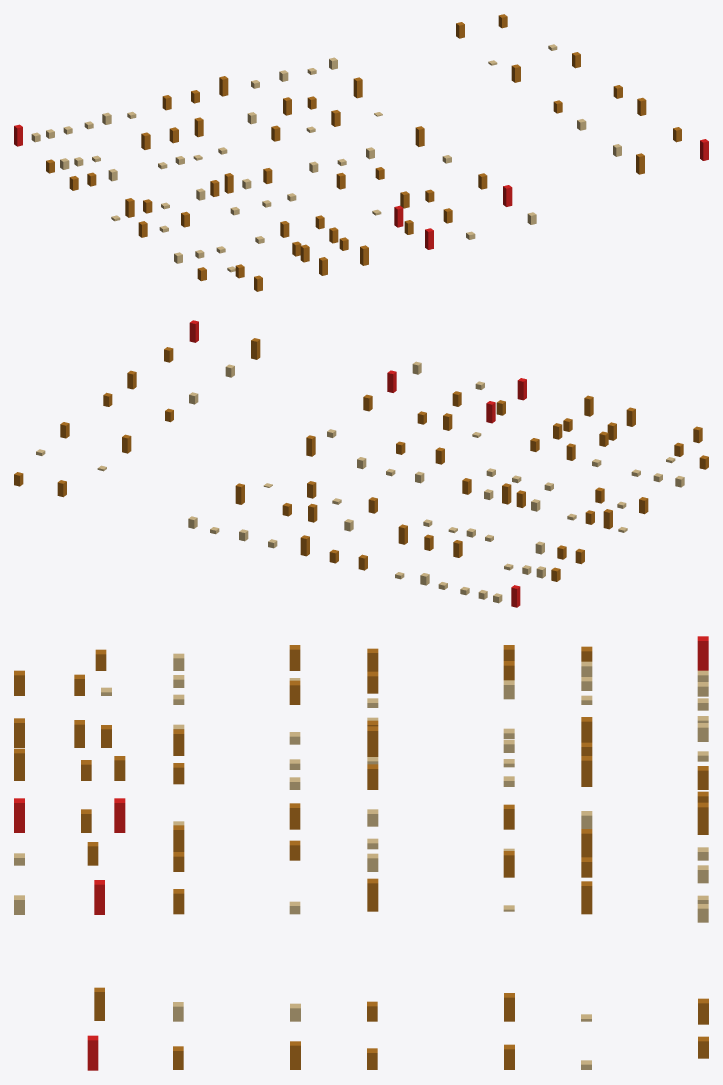
File: 08_Barras.glb
The picture shows the model from 3 angles, top to bottom: view 1: azimuth 30°, elevation 25°; view 2: azimuth 150°, elevation 25°; view 3: azimuth 270°, elevation 25°; orthographic projection. The views are drawn at different scales.
Bounding box in the file's own units: 576 × 20 × 416.
